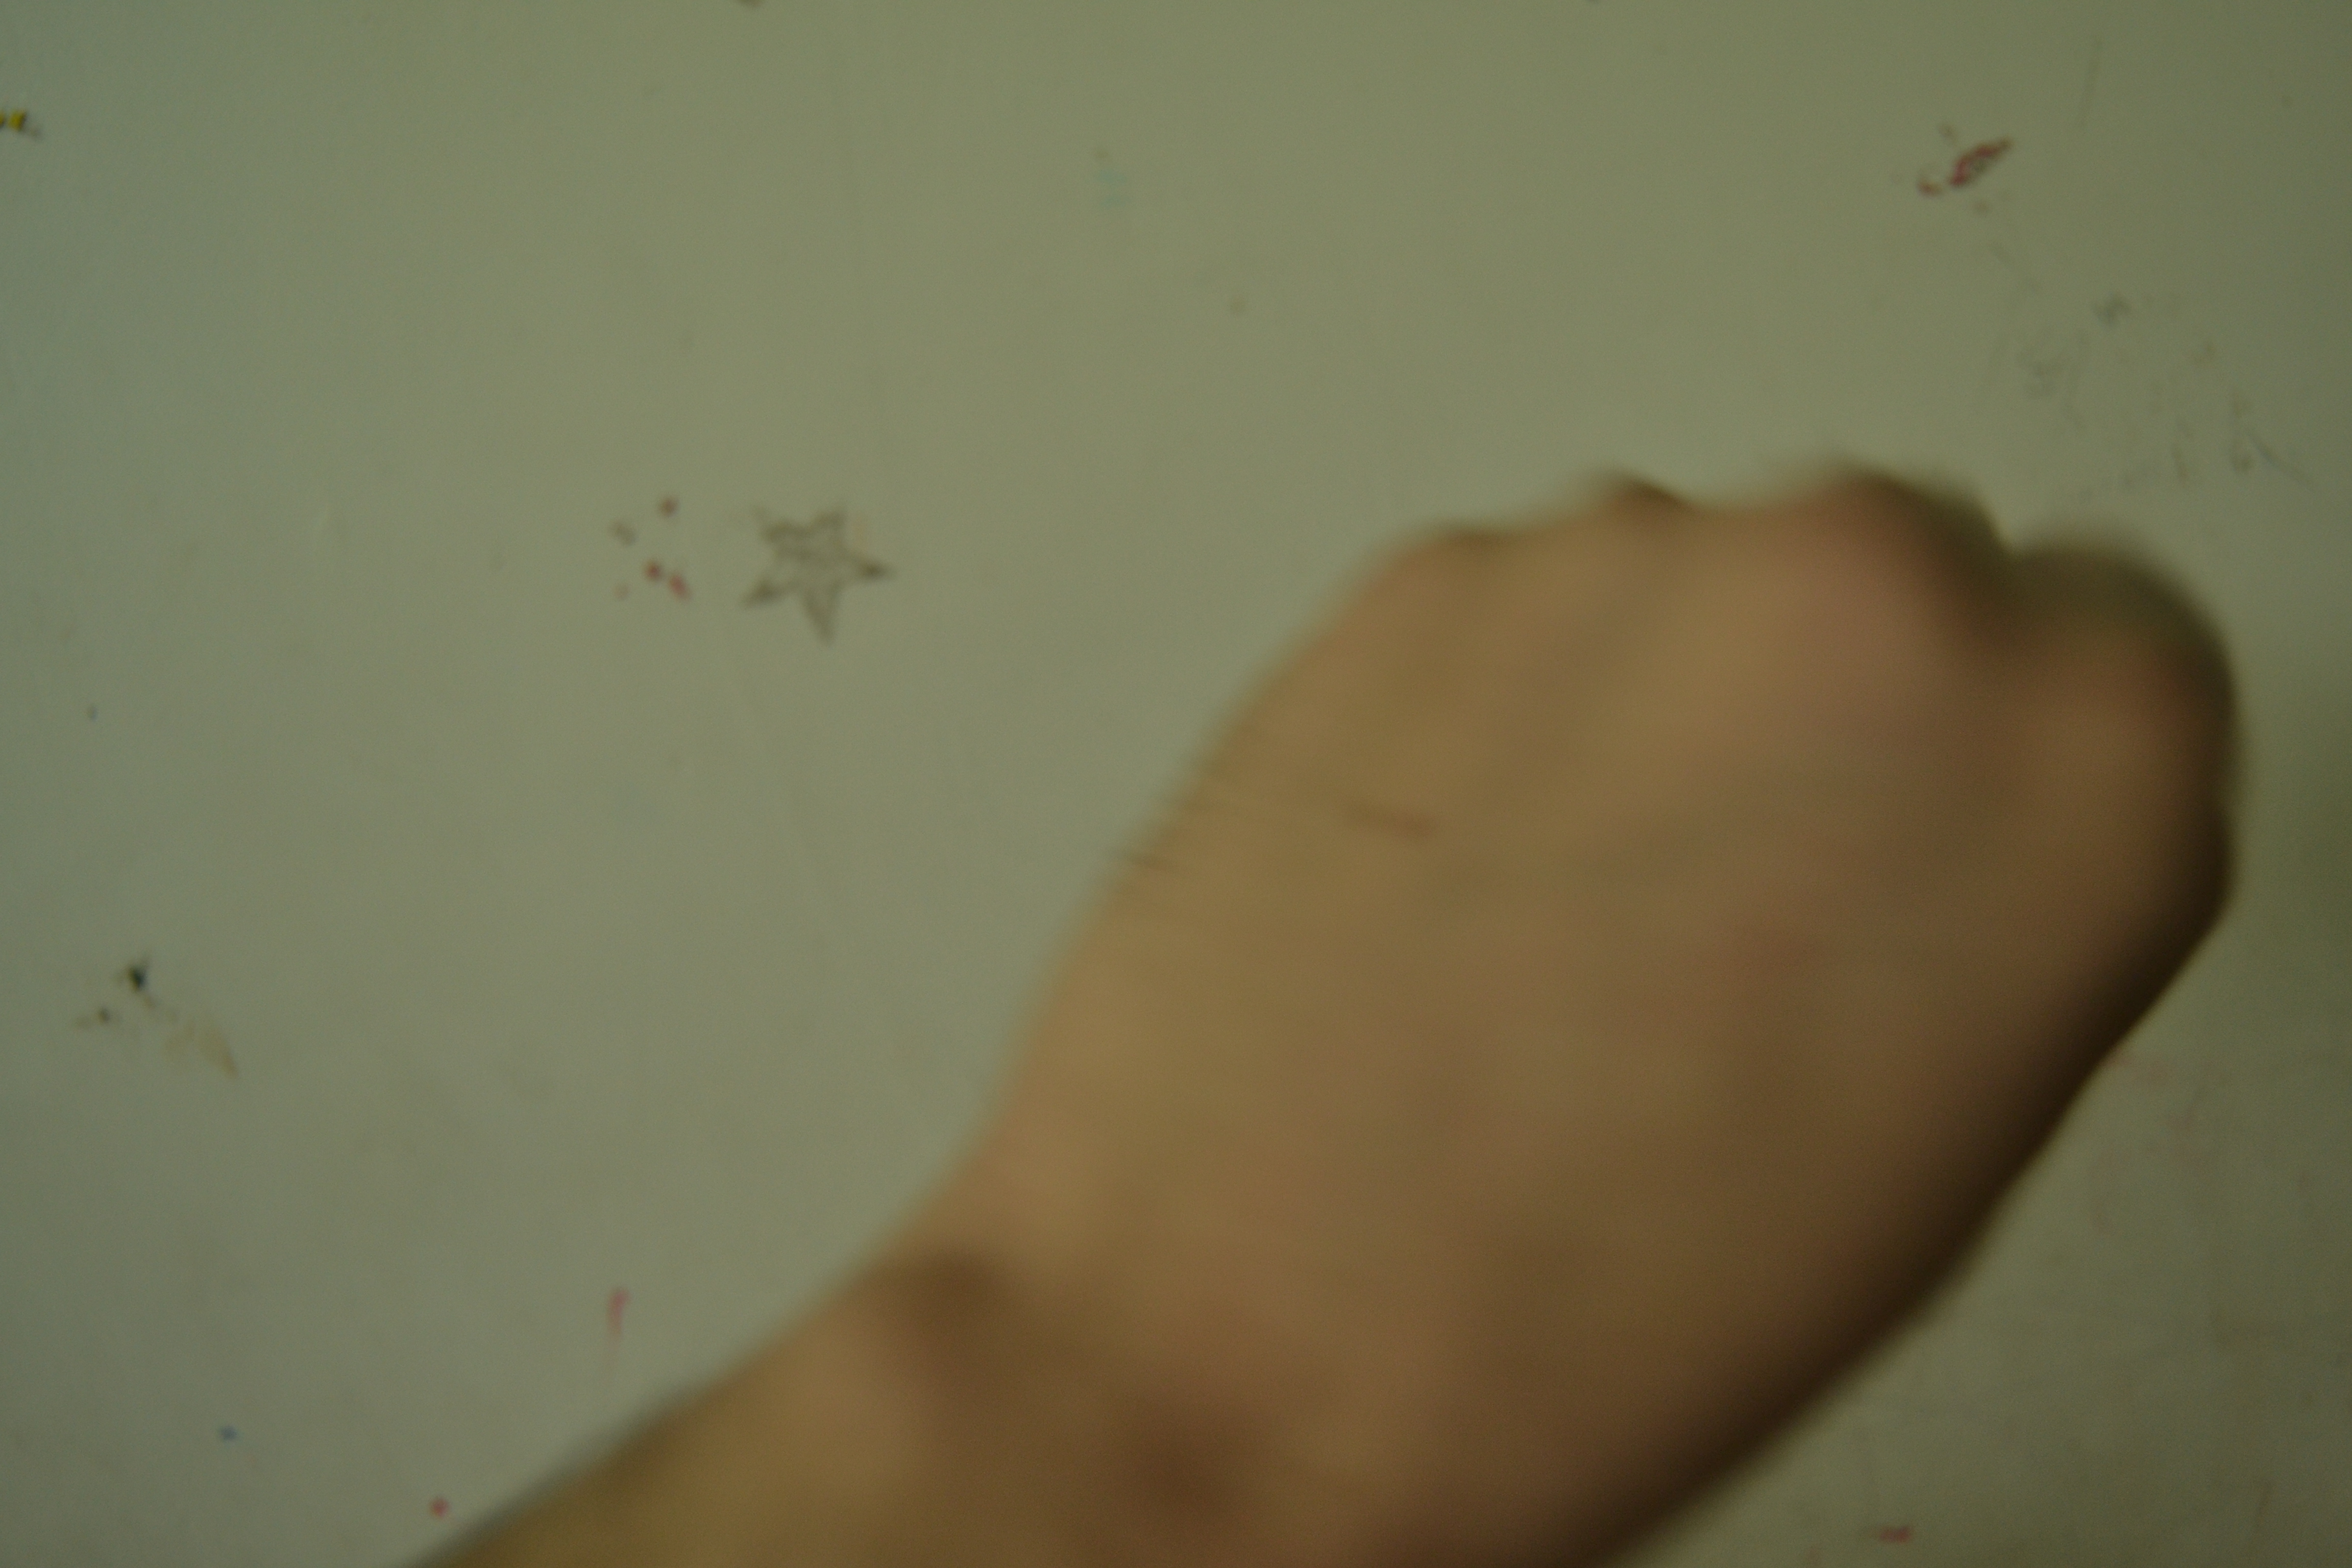click: (777, 306, 2299, 1547)
